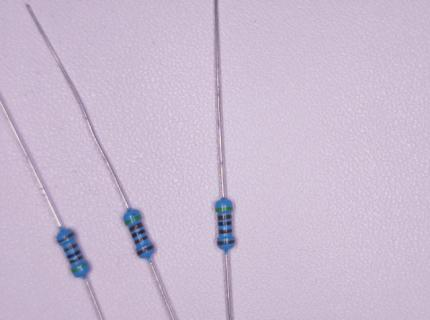Black band: (132, 229, 145, 238), (67, 250, 81, 258), (218, 221, 232, 226)
Brown band: (58, 231, 74, 243), (137, 244, 154, 255), (129, 222, 143, 233), (64, 242, 78, 252), (134, 235, 148, 244), (70, 255, 83, 263), (218, 240, 235, 245), (219, 229, 232, 235), (218, 215, 232, 220)
Green band: (124, 214, 141, 224), (72, 262, 87, 273), (216, 207, 233, 212)
